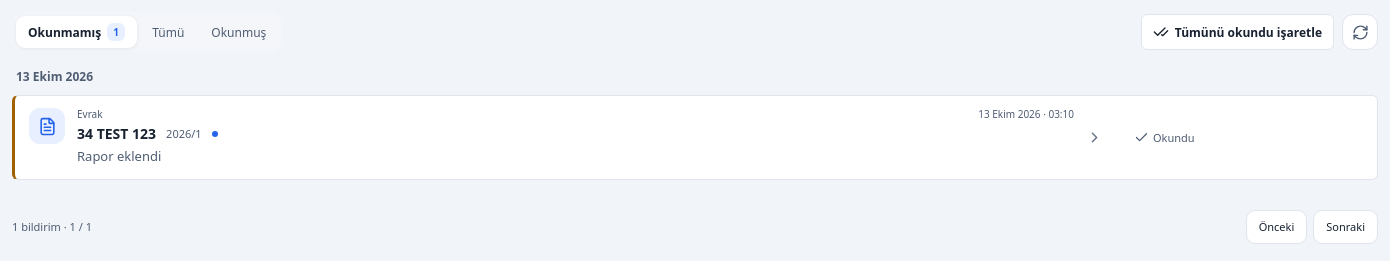
Test: notification card actions › keeps the user in the inbox when marking read fails, then retries
Click the button with aria-label "34 TEST 123 dosyasına git" at [47, 126], box left=15, top=96, right=1117, bottom=179
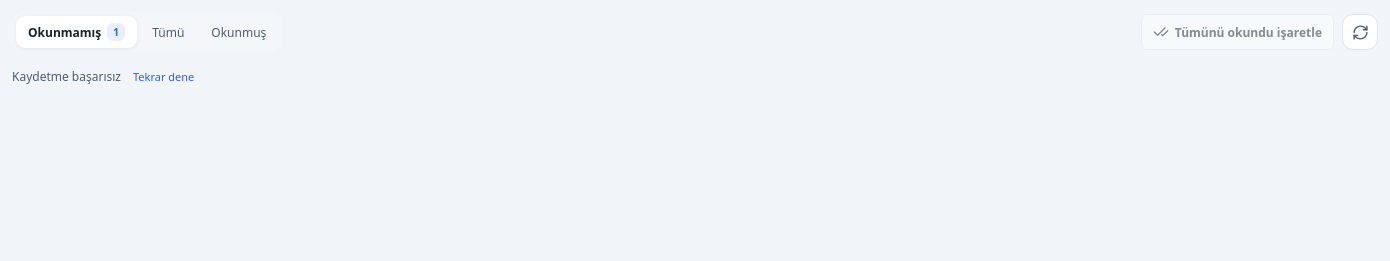
Check: the message shows "Kaydetme başarısız", box left=12, top=68, right=121, bottom=85
Click the button "Tekrar dene" at [164, 76], box left=133, top=69, right=194, bottom=84
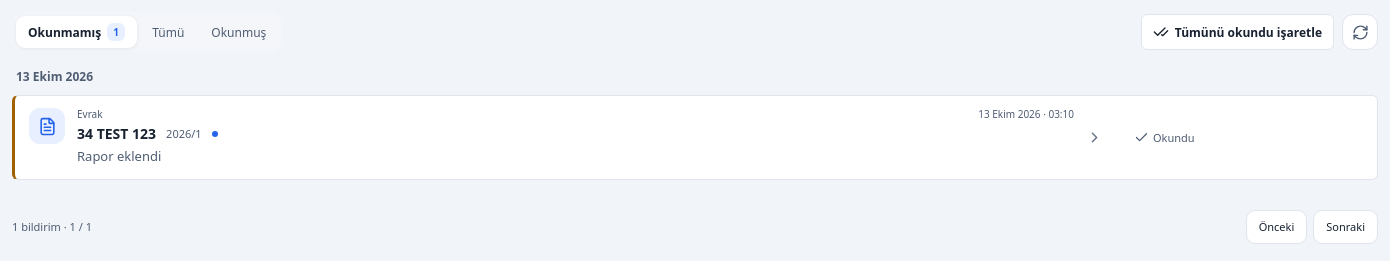
Check: the text "Rapor eklendi" is shown, box left=77, top=147, right=161, bottom=165
